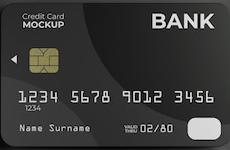payment_card: (2, 3, 230, 147)
